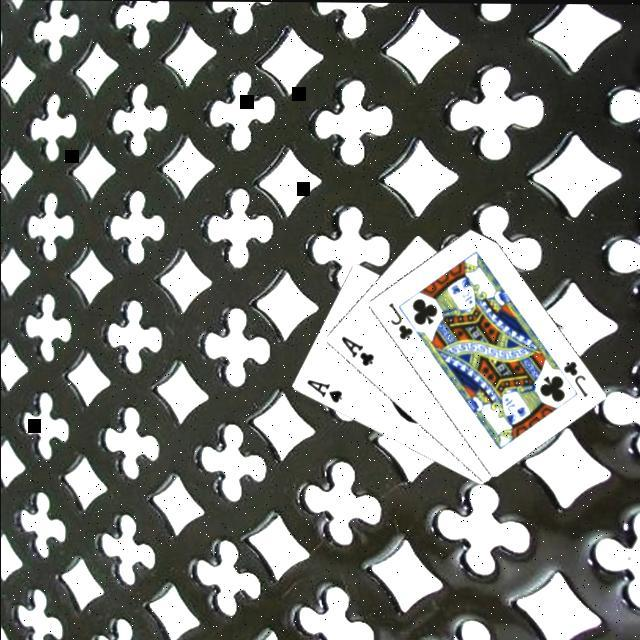AC: (336, 333, 374, 371)
AS: (301, 378, 343, 406)
JC: (556, 359, 588, 402), (384, 300, 414, 344)
